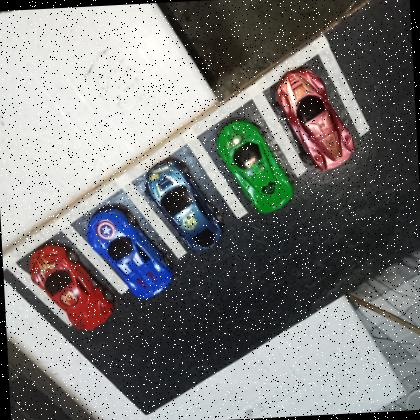Car: (272, 64, 357, 174), (84, 204, 176, 302), (213, 114, 295, 215), (28, 240, 116, 334), (143, 158, 226, 255)
